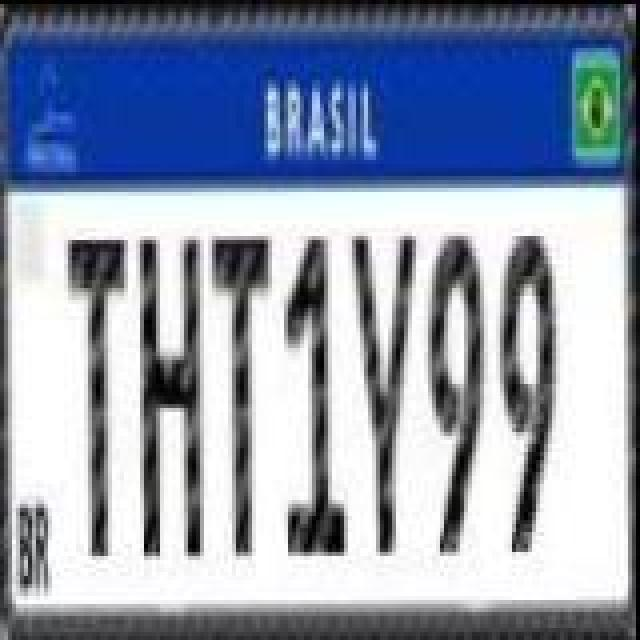1: (280, 226, 352, 562)
9: (492, 224, 564, 560), (422, 224, 490, 560)
H: (140, 228, 212, 564)
T: (212, 228, 276, 564), (68, 234, 132, 558)
Y: (350, 230, 418, 554)
